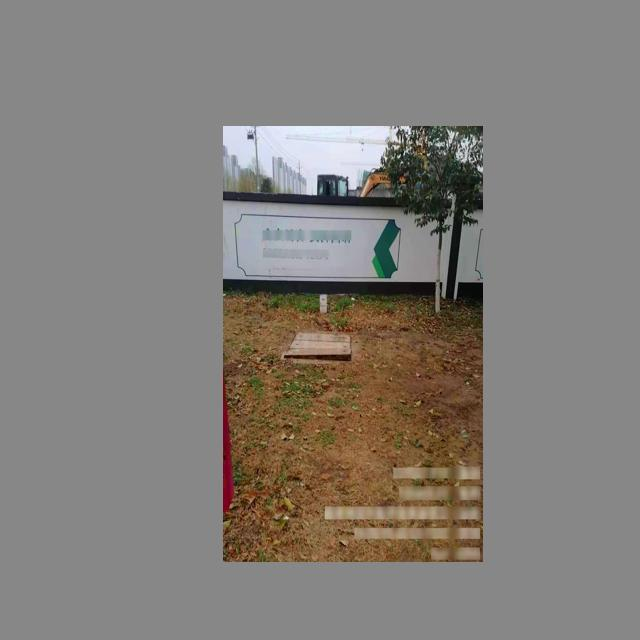uncovered: (281, 330, 354, 364)
